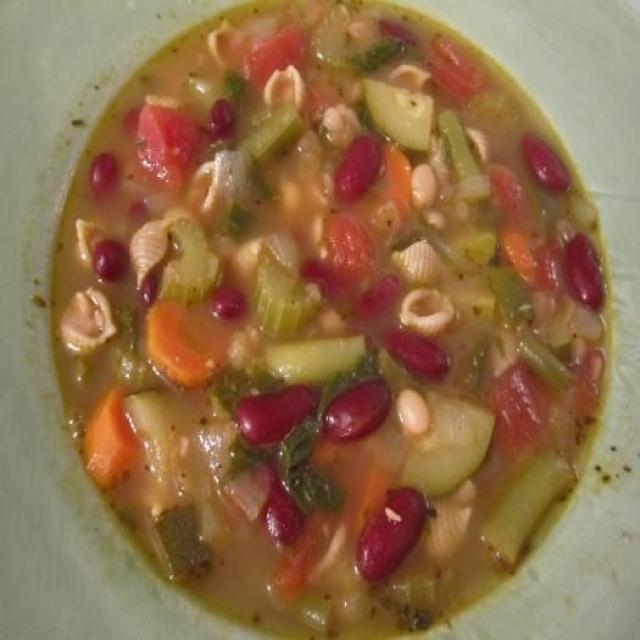汤锅炖物: (16, 22, 623, 634)
